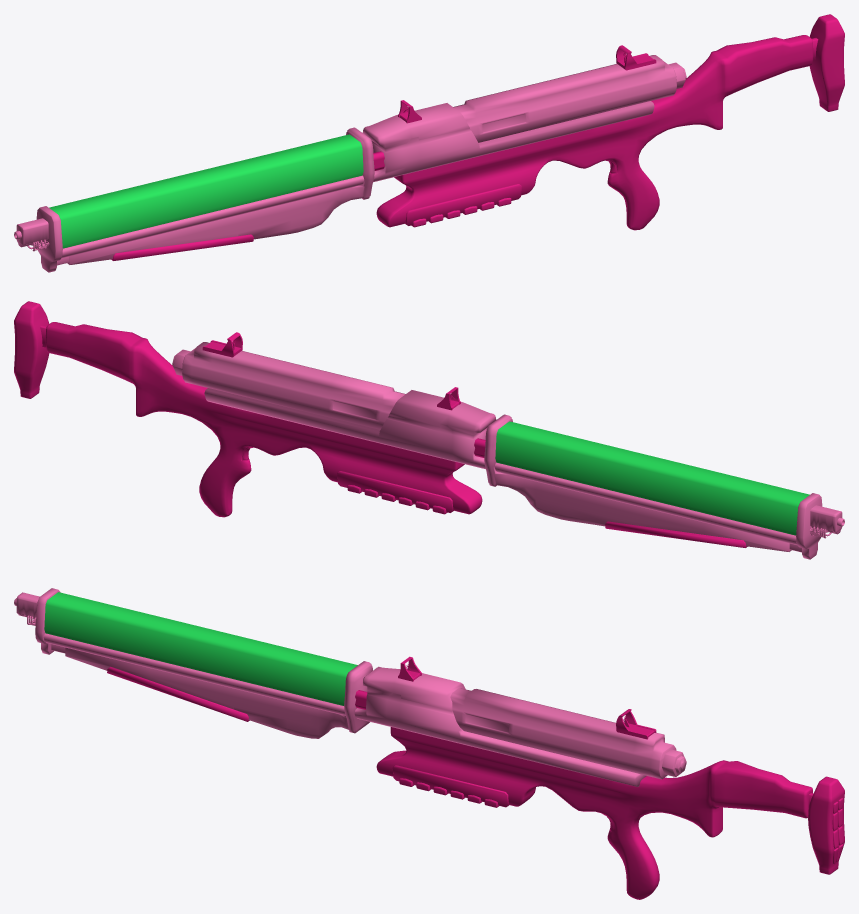
Rendered from futuristic_weapon_3.FBX.
3 views of the same model, one above another, from view 1: azimuth 30°, elevation 25°; view 2: azimuth 150°, elevation 25°; view 3: azimuth 330°, elevation 25° (orthographic).
Parts seen in each view (by area): view 1: futuristic_weapon3_2, futuristic_weapon3_1, futuristic_weapon3_3gl; view 2: futuristic_weapon3_2, futuristic_weapon3_1, futuristic_weapon3_3gl; view 3: futuristic_weapon3_2, futuristic_weapon3_1, futuristic_weapon3_3gl.
Part boxes in pixels (bbox=[...]): futuristic_weapon3_2: bbox=[14, 55, 686, 272]; futuristic_weapon3_1: bbox=[111, 14, 844, 260]; futuristic_weapon3_3gl: bbox=[49, 134, 363, 248]; futuristic_weapon3_2: bbox=[172, 342, 844, 559]; futuristic_weapon3_1: bbox=[14, 301, 747, 547]; futuristic_weapon3_3gl: bbox=[495, 421, 809, 535]; futuristic_weapon3_2: bbox=[14, 588, 686, 786]; futuristic_weapon3_1: bbox=[107, 656, 844, 899]; futuristic_weapon3_3gl: bbox=[44, 592, 357, 705].
Size of the model in its own units: 108 by 5.36 by 22.98.
